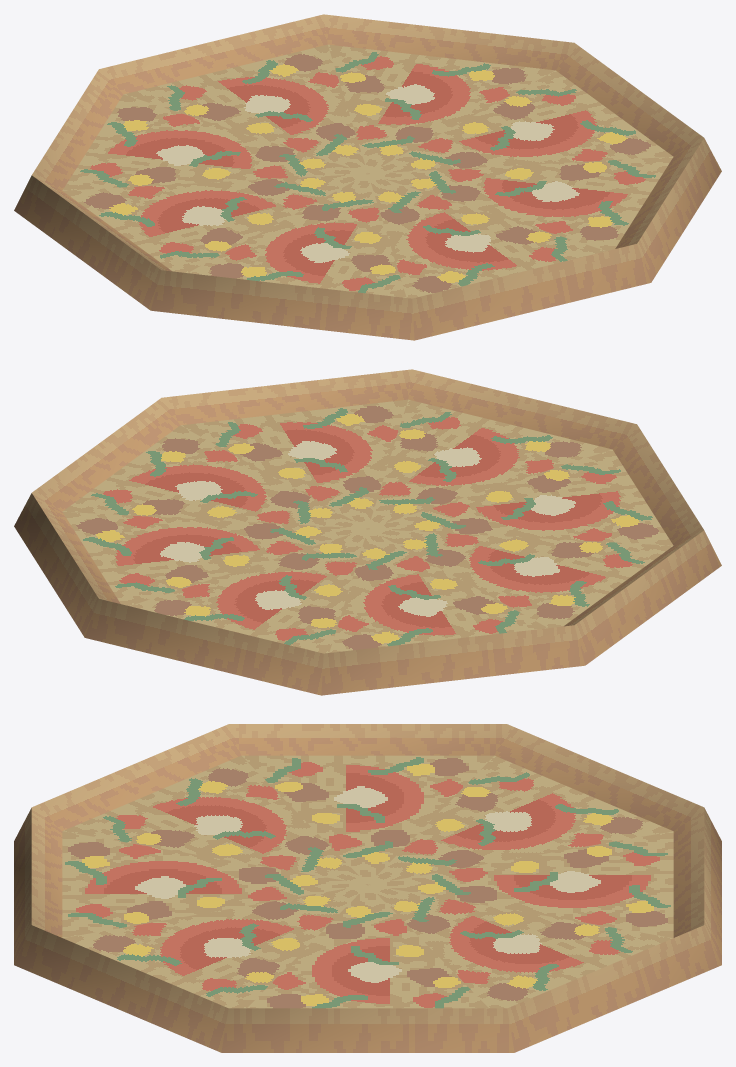
Rendered from 03ba_Pizza.glb.
3 views of the same model, one above another, from view 1: azimuth 30°, elevation 25°; view 2: azimuth 150°, elevation 25°; view 3: azimuth 270°, elevation 25° (orthographic). The views are drawn at different scales.
Visible parts, largest first — view 1: part_0; view 2: part_0; view 3: part_0.
Boxes of the visible parts, left/top/right/bottom form: part_0: left=14, top=14, right=721, bottom=340; part_0: left=14, top=369, right=721, bottom=695; part_0: left=14, top=724, right=721, bottom=1052.
Bounding box in the file's own units: 0.4645 × 0.0268 × 0.4645.
Materials: 1 (1 with a texture image).
